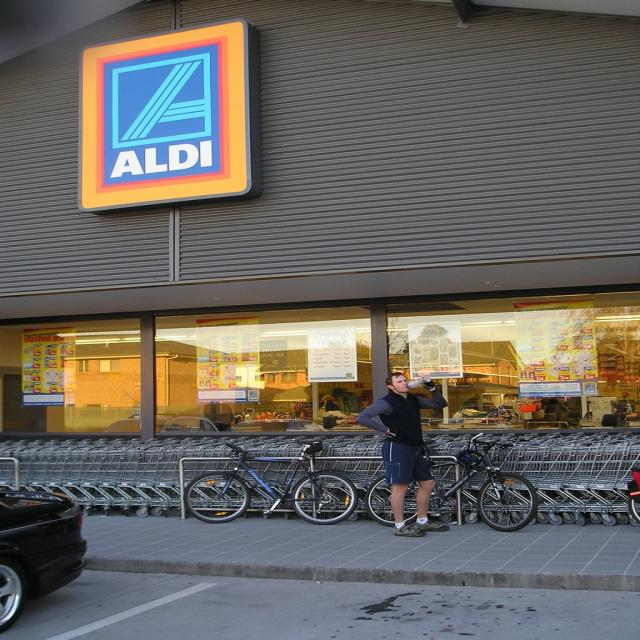aldi: (81, 22, 250, 209)
